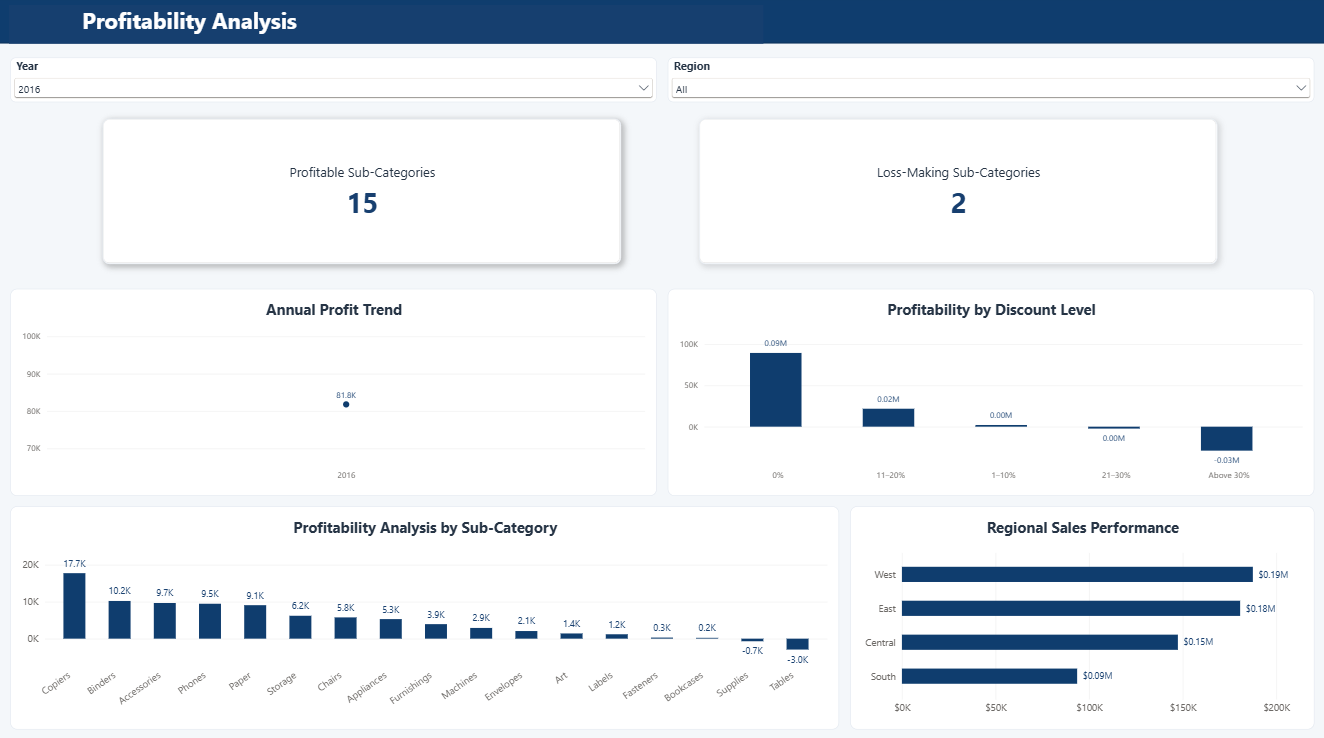

What the dashboard file says about the page in this screenshot:
{"tool":"powerbi","page":{"name":"Detailed Profitability Analysis","canvas":[1920,1080],"ordinal":1},"visuals":[{"type":"slicer","title":"Year","fields":{"Values":["superstore.order_date.Variation.Date Hierarchy.Year"]},"box":[16,90,936,65],"z":1000},{"type":"slicer","title":"Region","fields":{"Values":["superstore.region"]},"box":[968,90,936,65],"z":2000},{"type":"lineChart","title":"Annual Profit Trend","fields":{"Category":["superstore.order_date.Variation.Date Hierarchy.Year","superstore.order_date.Variation.Date Hierarchy.Quarter","superstore.order_date.Variation.Date Hierarchy.Month","superstore.order_date.Variation.Date Hierarchy.Day"],"Y":["Sum(superstore.profit)"]},"box":[16,425,936,300],"z":3000},{"type":"clusteredColumnChart","title":"Profitability by Discount Level","fields":{"Category":["superstore.Discount Group"],"Y":["Sum(superstore.profit)"]},"box":[968,425,936,300],"z":4000},{"type":"clusteredColumnChart","title":"Profitability Analysis by Sub-Category","fields":{"Category":["superstore.sub_category"],"Y":["Sum(superstore.profit)"]},"box":[16,741,1200,323],"z":5000},{"type":"clusteredBarChart","title":"Regional Sales Performance","fields":{"Category":["superstore.region"],"Y":["Sum(superstore.sales)"]},"box":[1232,741,672,323],"z":6000},{"type":"cardVisual","fields":{"Data":["superstore.Profitable sub_category"]},"box":[150,180,750,210],"z":7000},{"type":"cardVisual","fields":{"Data":["superstore.Loss-Making sub_category"]},"box":[1014,180,750,210],"z":8000},{"type":"shape","box":[0,0,1920,70],"z":8001},{"type":"textbox","box":[14,14,1092,56],"z":8002}]}

Visuals, with their boxes in screenshot pixels (x1, y1, x2, y2), scaled from the page's 1920x1080 canvas onto the 1324x738 screenshot:
"Year" slicer: <box>11,62,656,106</box>
"Region" slicer: <box>668,62,1313,106</box>
"Annual Profit Trend" lineChart: <box>11,290,656,495</box>
"Profitability by Discount Level" clusteredColumnChart: <box>668,290,1313,495</box>
"Profitability Analysis by Sub-Category" clusteredColumnChart: <box>11,506,839,727</box>
"Regional Sales Performance" clusteredBarChart: <box>850,506,1313,727</box>
cardVisual - superstore.Profitable sub_category: <box>103,123,621,266</box>
cardVisual - superstore.Loss-Making sub_category: <box>699,123,1216,266</box>
shape: <box>0,0,1323,48</box>
textbox: <box>10,10,763,48</box>
